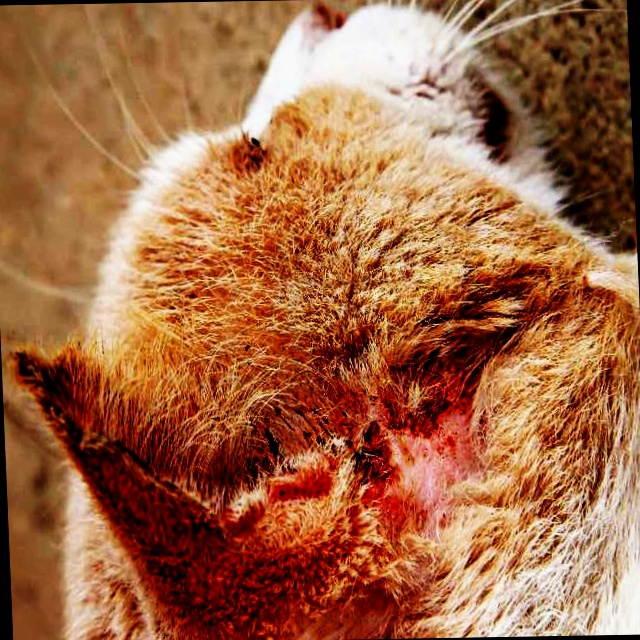ringworm: (262, 352, 503, 498)
